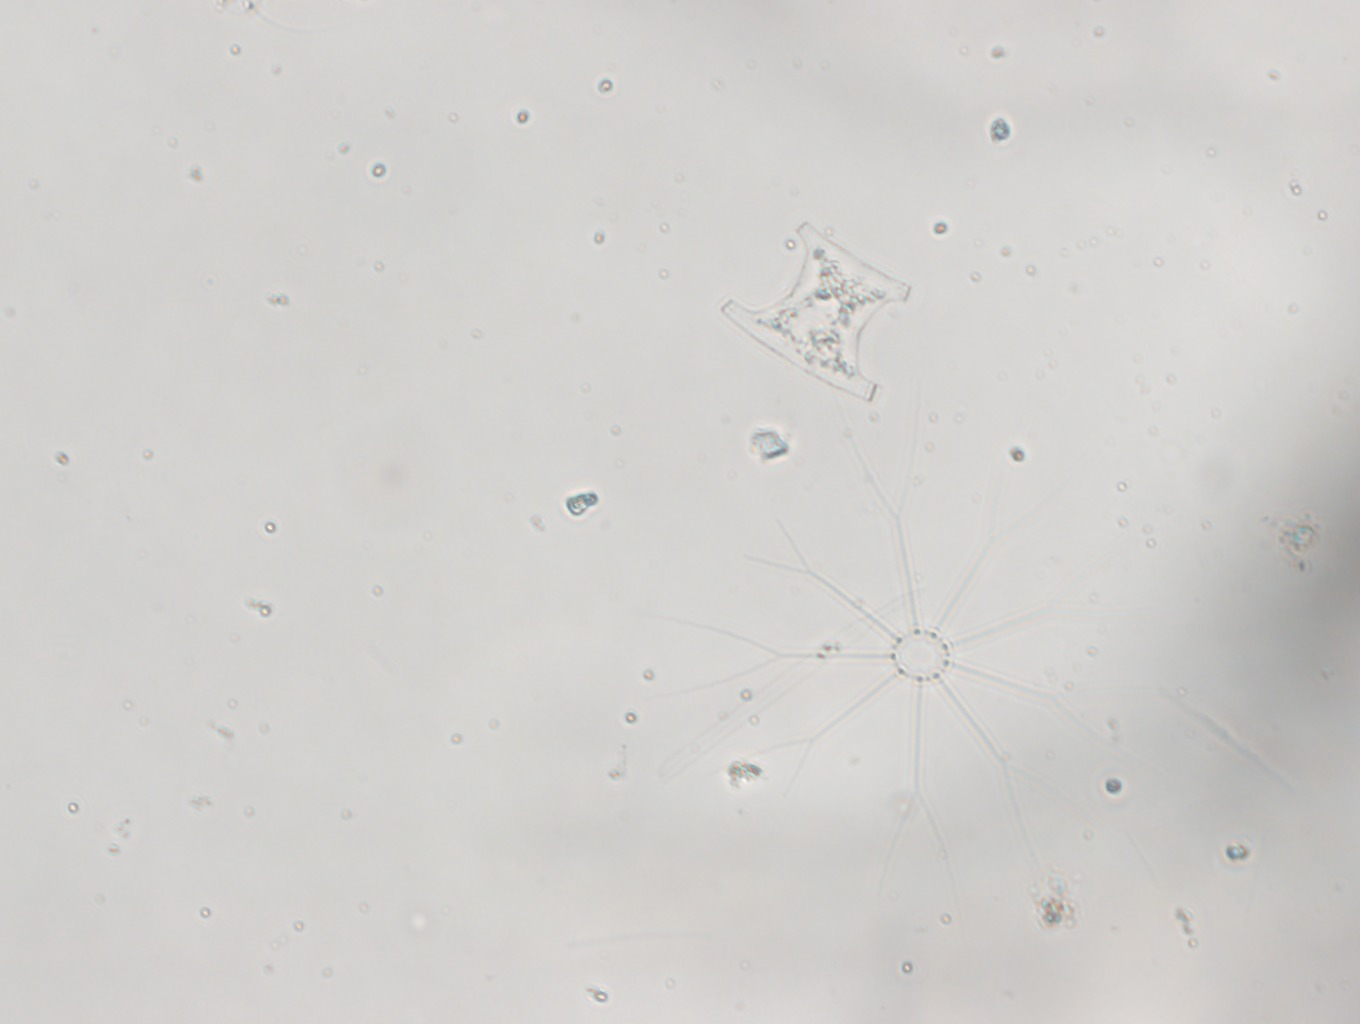bacteriastrum: (649, 425, 1151, 862)
eucampia: (720, 213, 913, 406)
